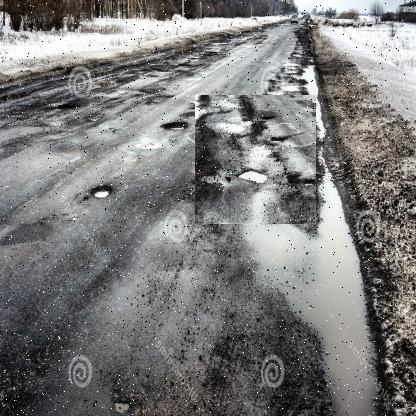damage: (193, 95, 316, 225)
pothole_water: (84, 170, 119, 210)
